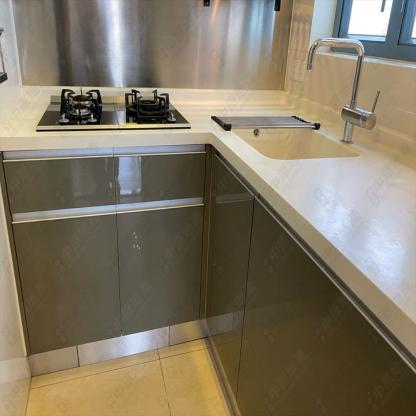Cupboard: (1, 148, 416, 415)
Faucet: (309, 31, 384, 145)
Sink: (218, 114, 359, 159)
Stove: (36, 89, 190, 131)
